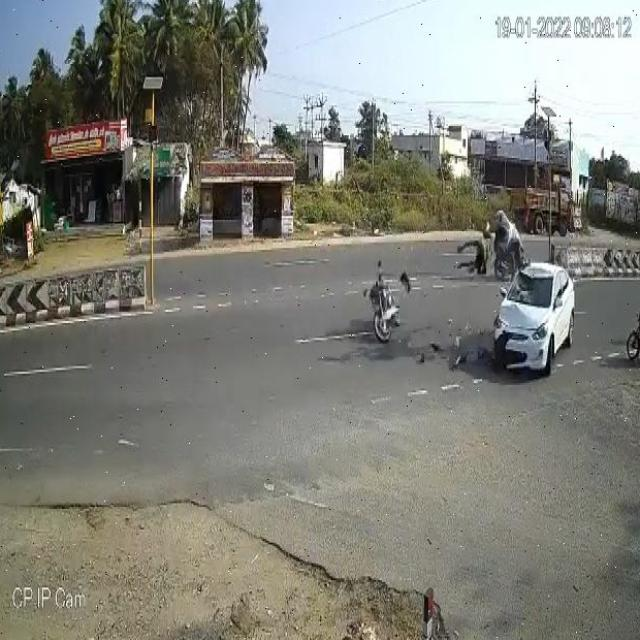accident: (486, 254, 577, 374)
